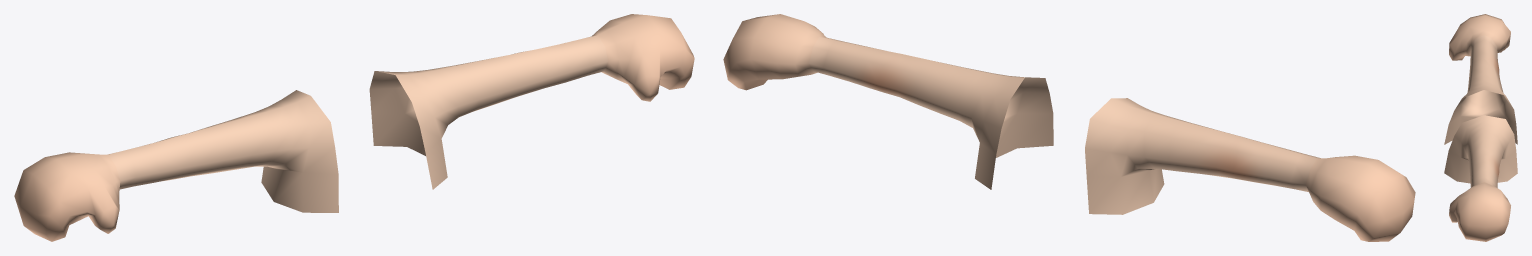
File: Body_ArmB_1.fbx
3 renders of one model, left to right at view 1: azimuth 30°, elevation 25°; view 2: azimuth 150°, elevation 25°; view 3: azimuth 270°, elevation 25°, orthographic. The views are drawn at different scales.
Parts seen in each view (by area): view 1: Body_ArmB_1; view 2: Body_ArmB_1; view 3: Body_ArmB_1.
Boxes of the visible parts, x1=… form: Body_ArmB_1: x1=14, y1=14, x2=694, y2=241; Body_ArmB_1: x1=723, y1=14, x2=1415, y2=241; Body_ArmB_1: x1=1444, y1=14, x2=1517, y2=241.
Size of the model in its own units: 130 by 17.74 by 20.37.
